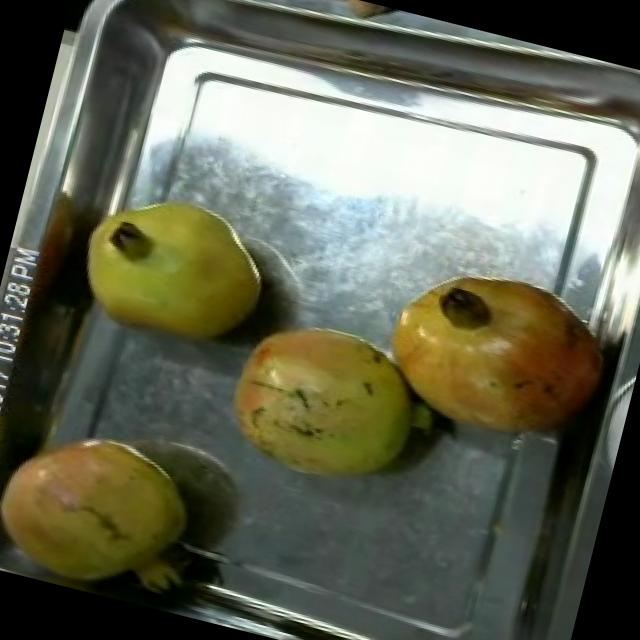fruit: (362, 246, 626, 467), (200, 294, 450, 511), (0, 404, 217, 614), (61, 172, 286, 370)
